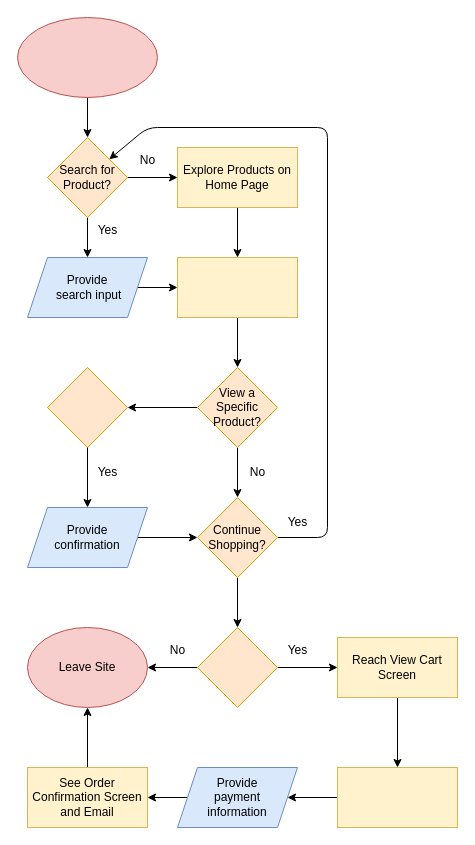
Image size: 475x845. Some labels were removed from this diagram. Here are the shapes that lost their labels. From the top down, the centre of each, then its label:
(x=87, y=57): Enter Website
(x=237, y=287): Begin looking at products
(x=87, y=407): Add to Cart?
(x=237, y=667): Checkout?
(x=397, y=797): Reach View Payment Screen
